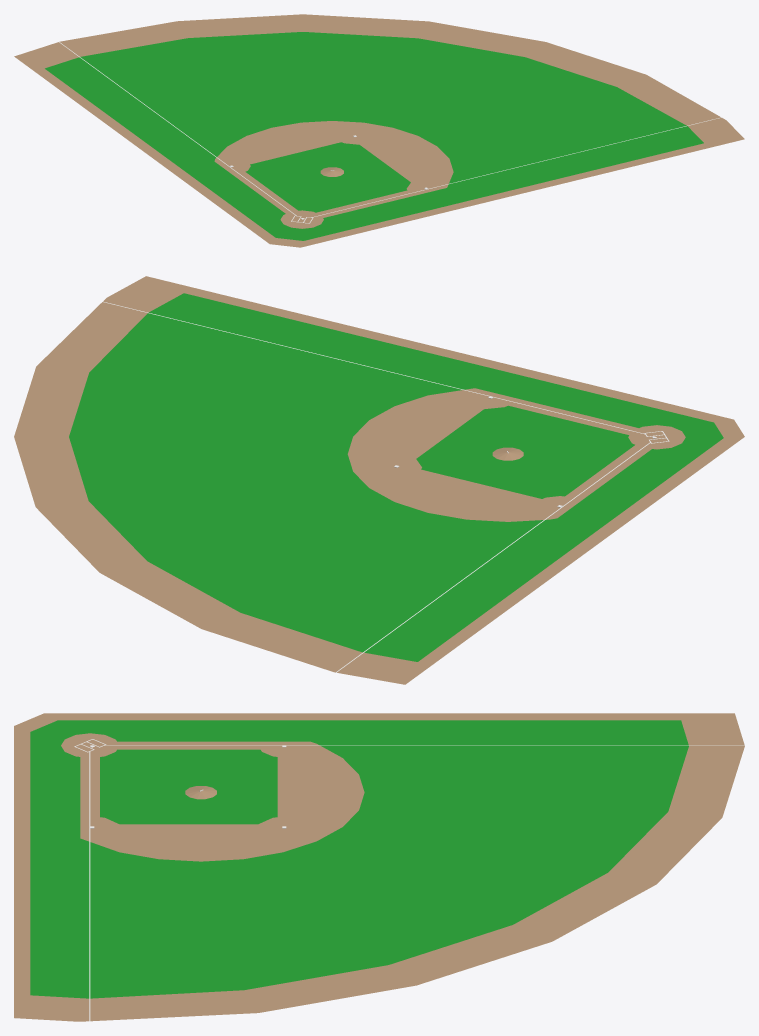
The model's file is Baseball_court.fbx.
3 views of the same model, one above another, from view 1: azimuth 30°, elevation 25°; view 2: azimuth 150°, elevation 25°; view 3: azimuth 270°, elevation 25° (orthographic). The views are drawn at different scales.
Parts seen in each view (by area): view 1: Baseball_court; view 2: Baseball_court; view 3: Baseball_court.
Part boxes in pixels (x1,y1,x2,y2): Baseball_court: (14, 14, 744, 247); Baseball_court: (14, 276, 744, 684); Baseball_court: (14, 713, 744, 1021).
Size of the model in its own units: 2682 by 9.11 by 2684.
